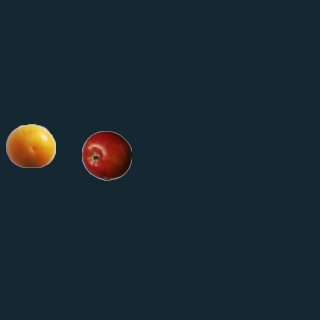Apple Braeburn: (81, 130, 131, 180)
Cherry Wax Yellow: (5, 120, 55, 170)
